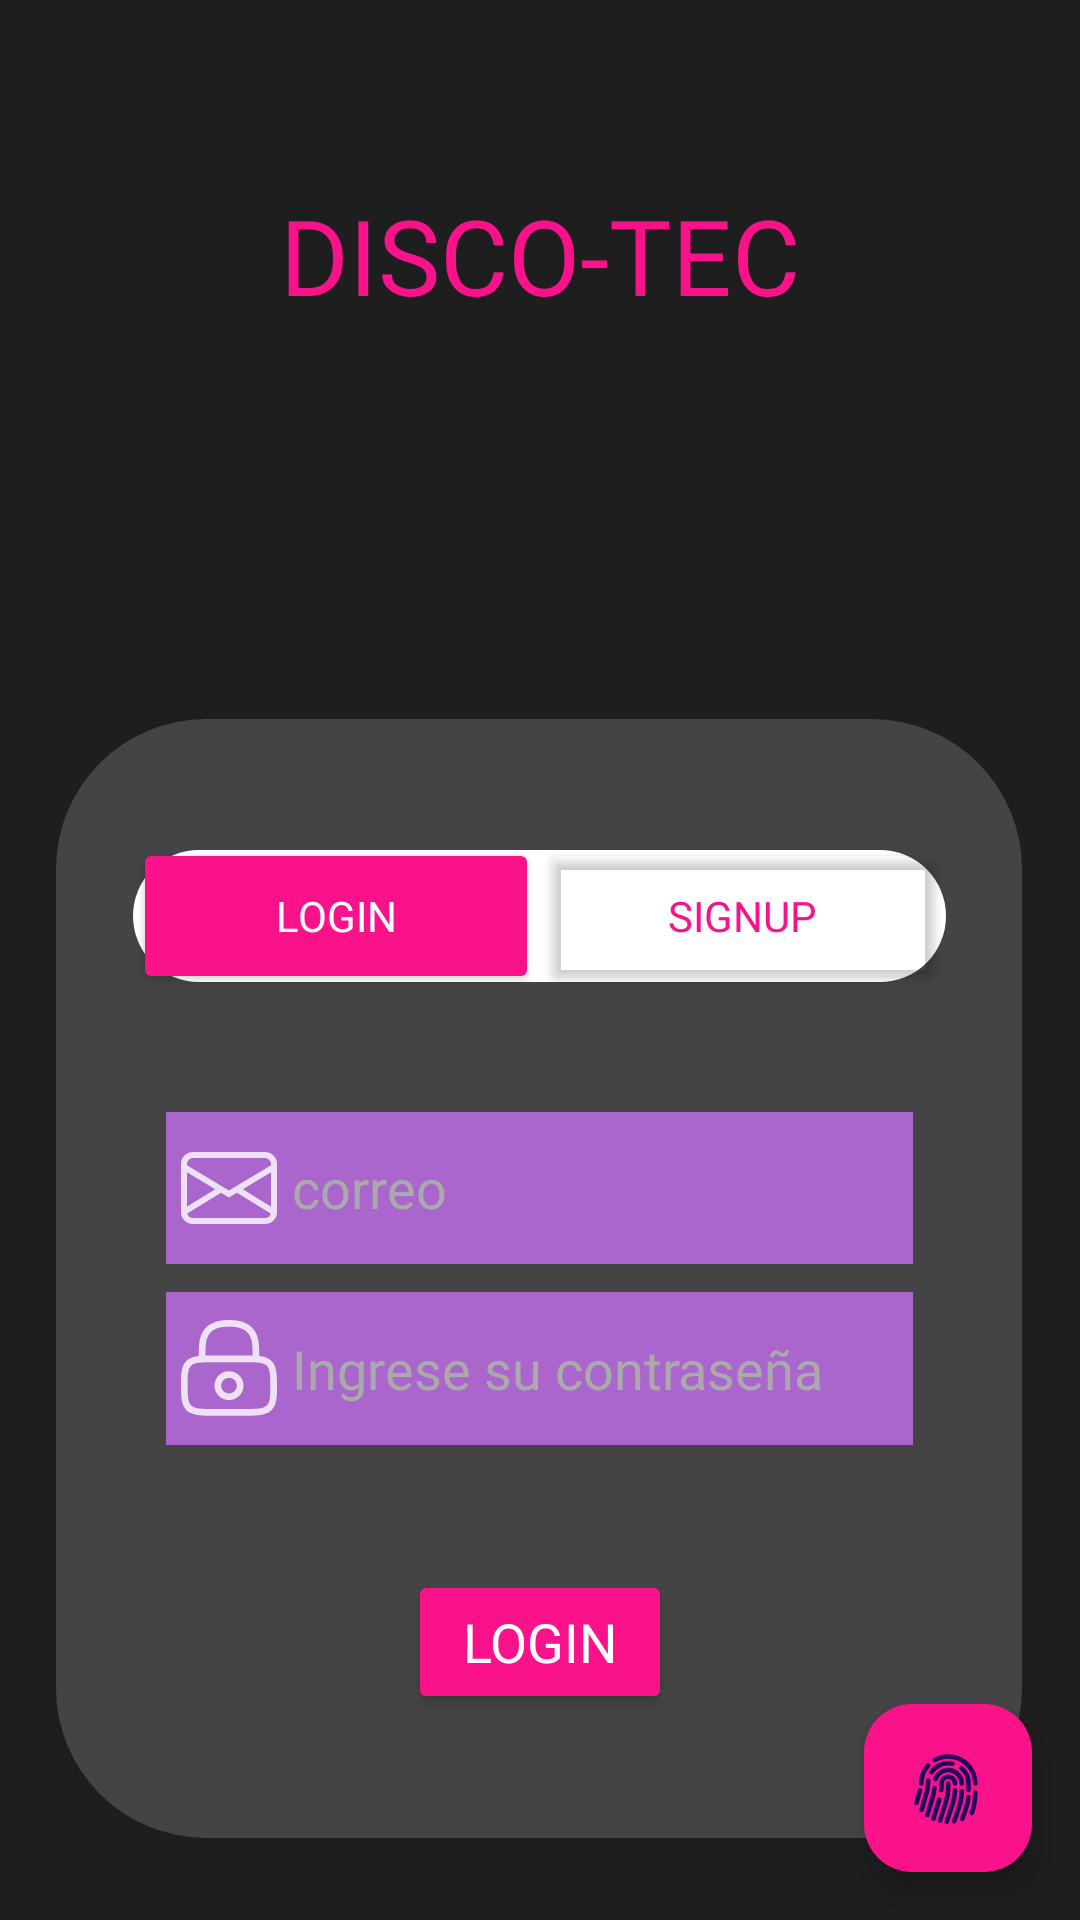

Point at icon controls on the screen. Image size 1080px x 1920px, points as point (x, y).
fingerprint: point (948, 1788)
